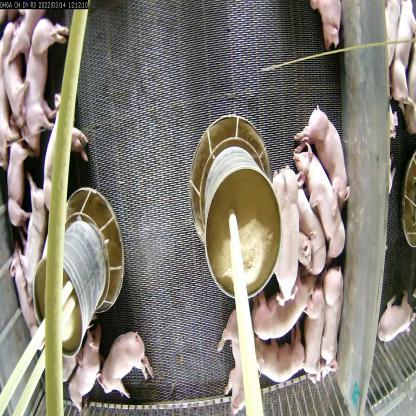Pig: (291, 140, 351, 264), (294, 103, 354, 209), (42, 88, 90, 218), (278, 167, 334, 275), (22, 15, 66, 145), (268, 166, 306, 307), (249, 264, 314, 338), (96, 326, 156, 399), (217, 303, 255, 415), (249, 332, 306, 390), (21, 175, 47, 300), (67, 328, 102, 416), (320, 262, 344, 378), (299, 274, 324, 384), (0, 32, 28, 124)
